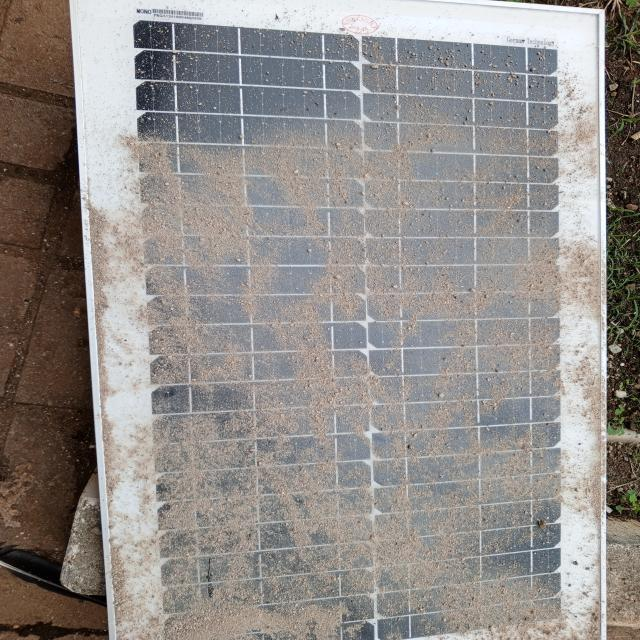Anomaly Solar Panel: (70, 0, 607, 640)
Surface Contaminant: (115, 23, 587, 639)
